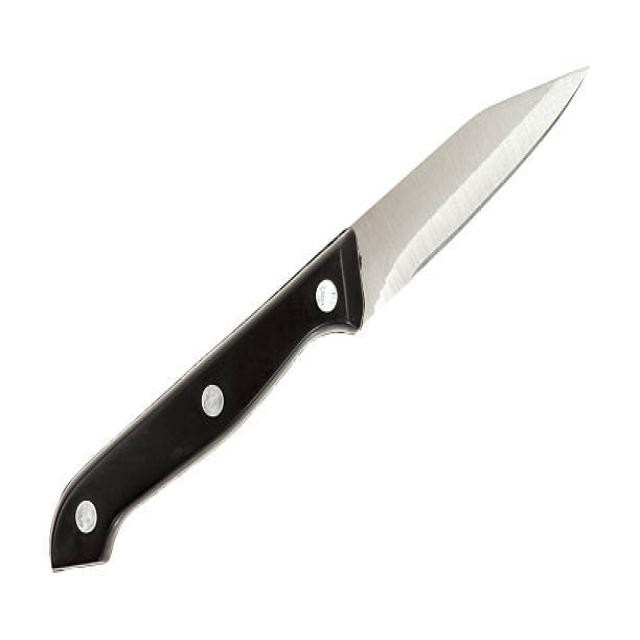knife: (50, 60, 592, 584)
